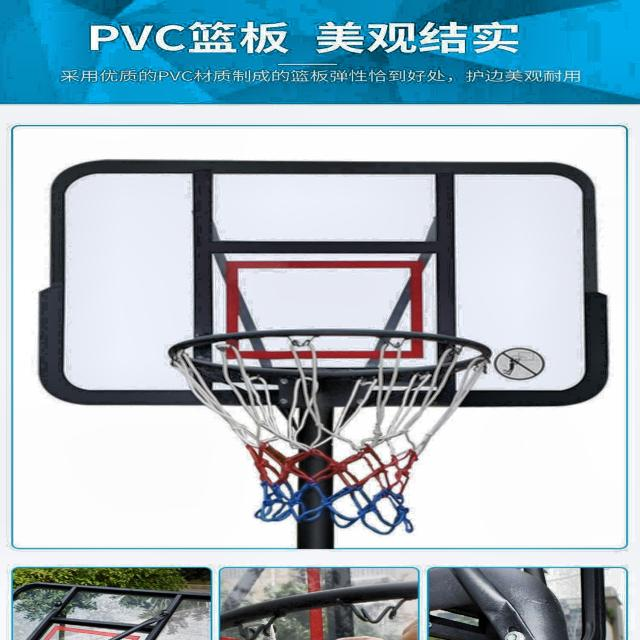rim: (168, 327, 498, 535)
